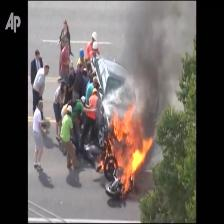fire: (97, 99, 153, 195)
